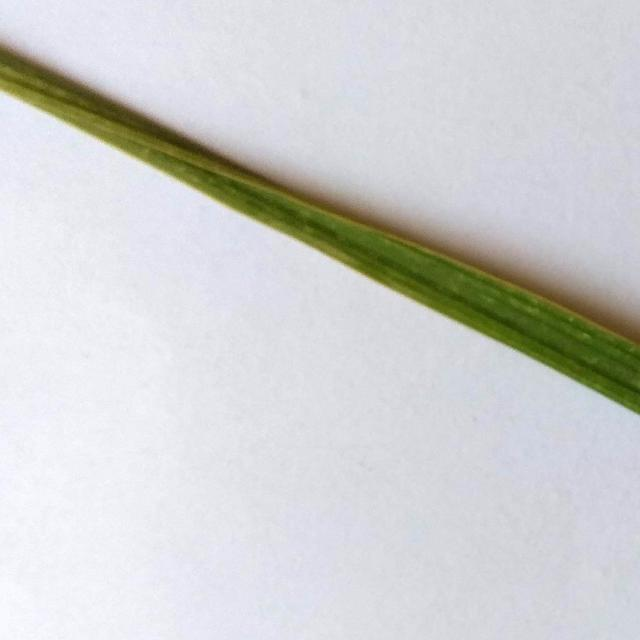Rice_Healthy: (0, 44, 640, 414)
